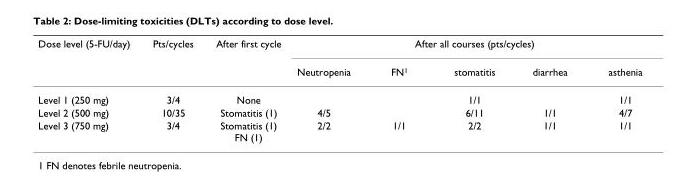table: (37, 37, 641, 142)
table column: (37, 37, 140, 142), (203, 37, 288, 142), (430, 37, 513, 142), (288, 37, 370, 142), (513, 37, 587, 142), (140, 37, 203, 142), (370, 37, 430, 142), (587, 37, 641, 142)
table column header: (37, 37, 641, 85)
table row: (37, 57, 641, 85), (37, 118, 641, 142), (37, 37, 641, 57), (37, 85, 641, 105), (37, 105, 641, 118)
table spanning cell: (288, 37, 641, 57), (37, 37, 140, 85), (203, 37, 288, 85), (140, 37, 203, 85)
